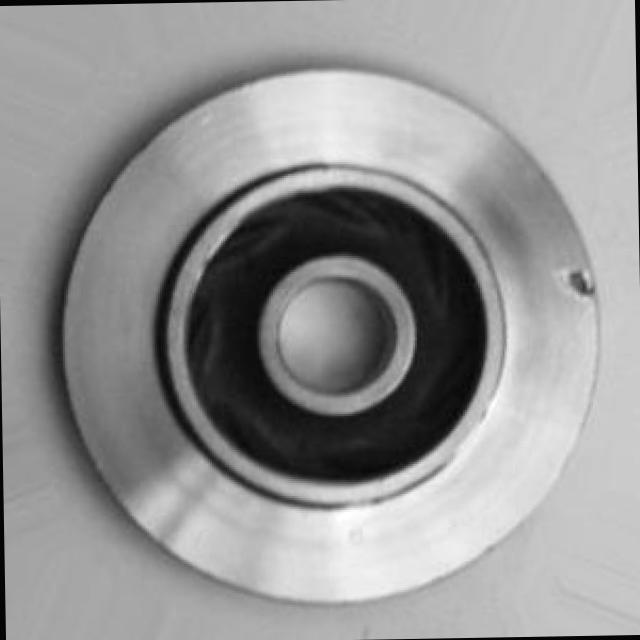Defect: (554, 254, 596, 316)
